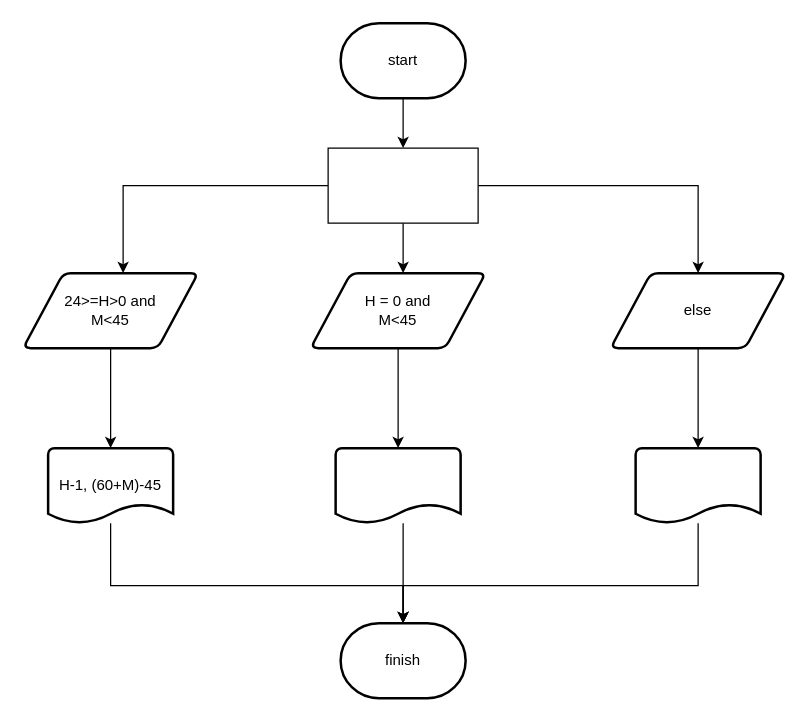
Some shapes in this 808 by 720 pixel diagram are drawn without their labels. The centre of each missing label's shape, as x and y in pixels:
"23, (60+M)-45" goes at (x=397, y=485).
"H, M input" goes at (x=402, y=185).
"H, M-45" goes at (x=697, y=485).
